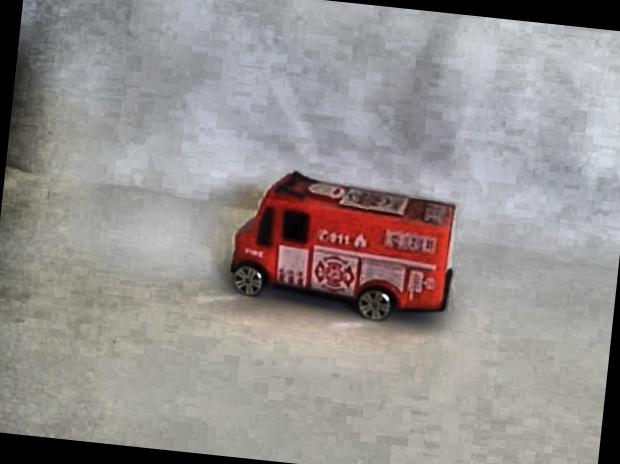fire_truck: (221, 161, 462, 330)
